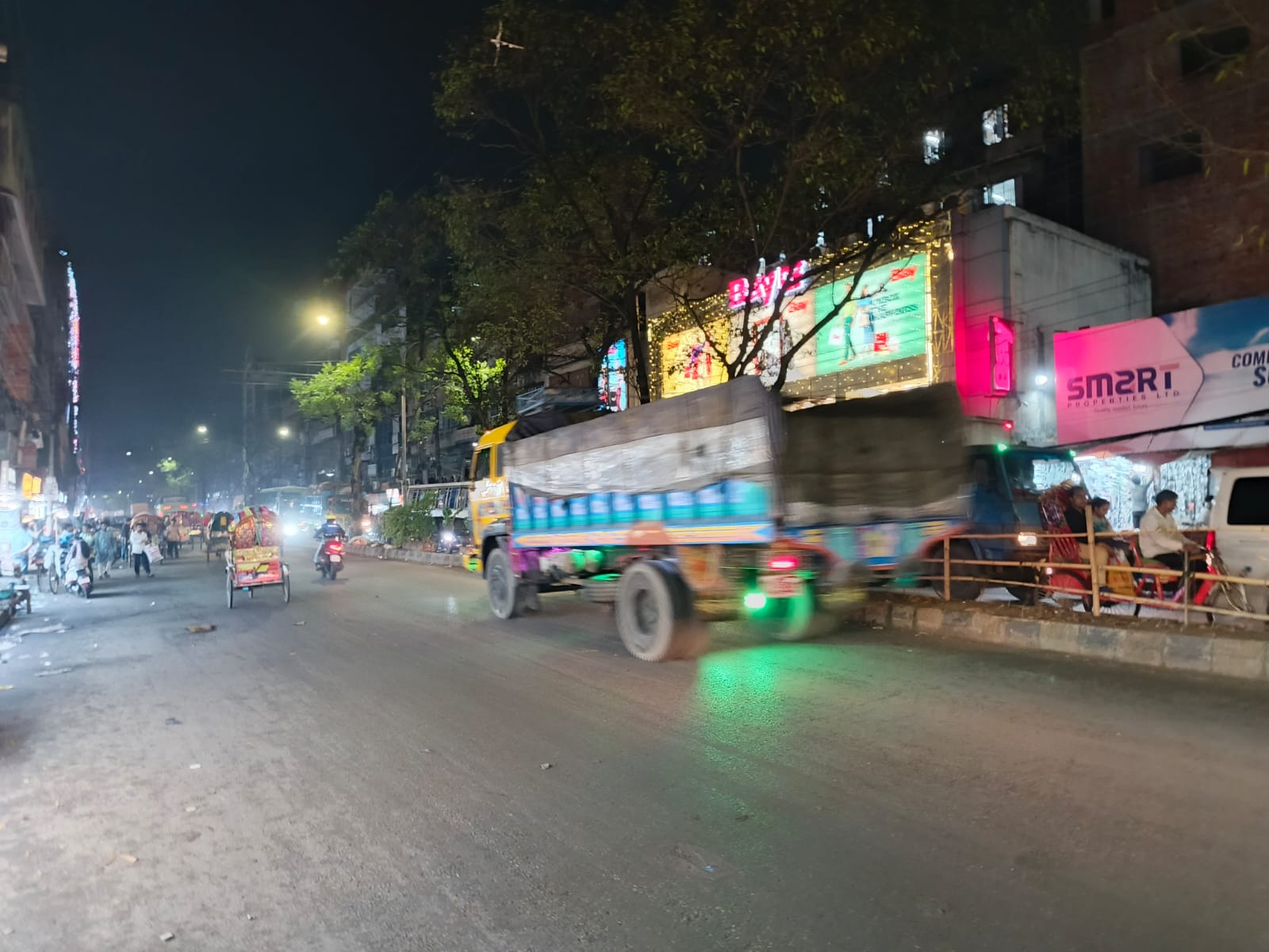Truck: (452, 374, 980, 673)
